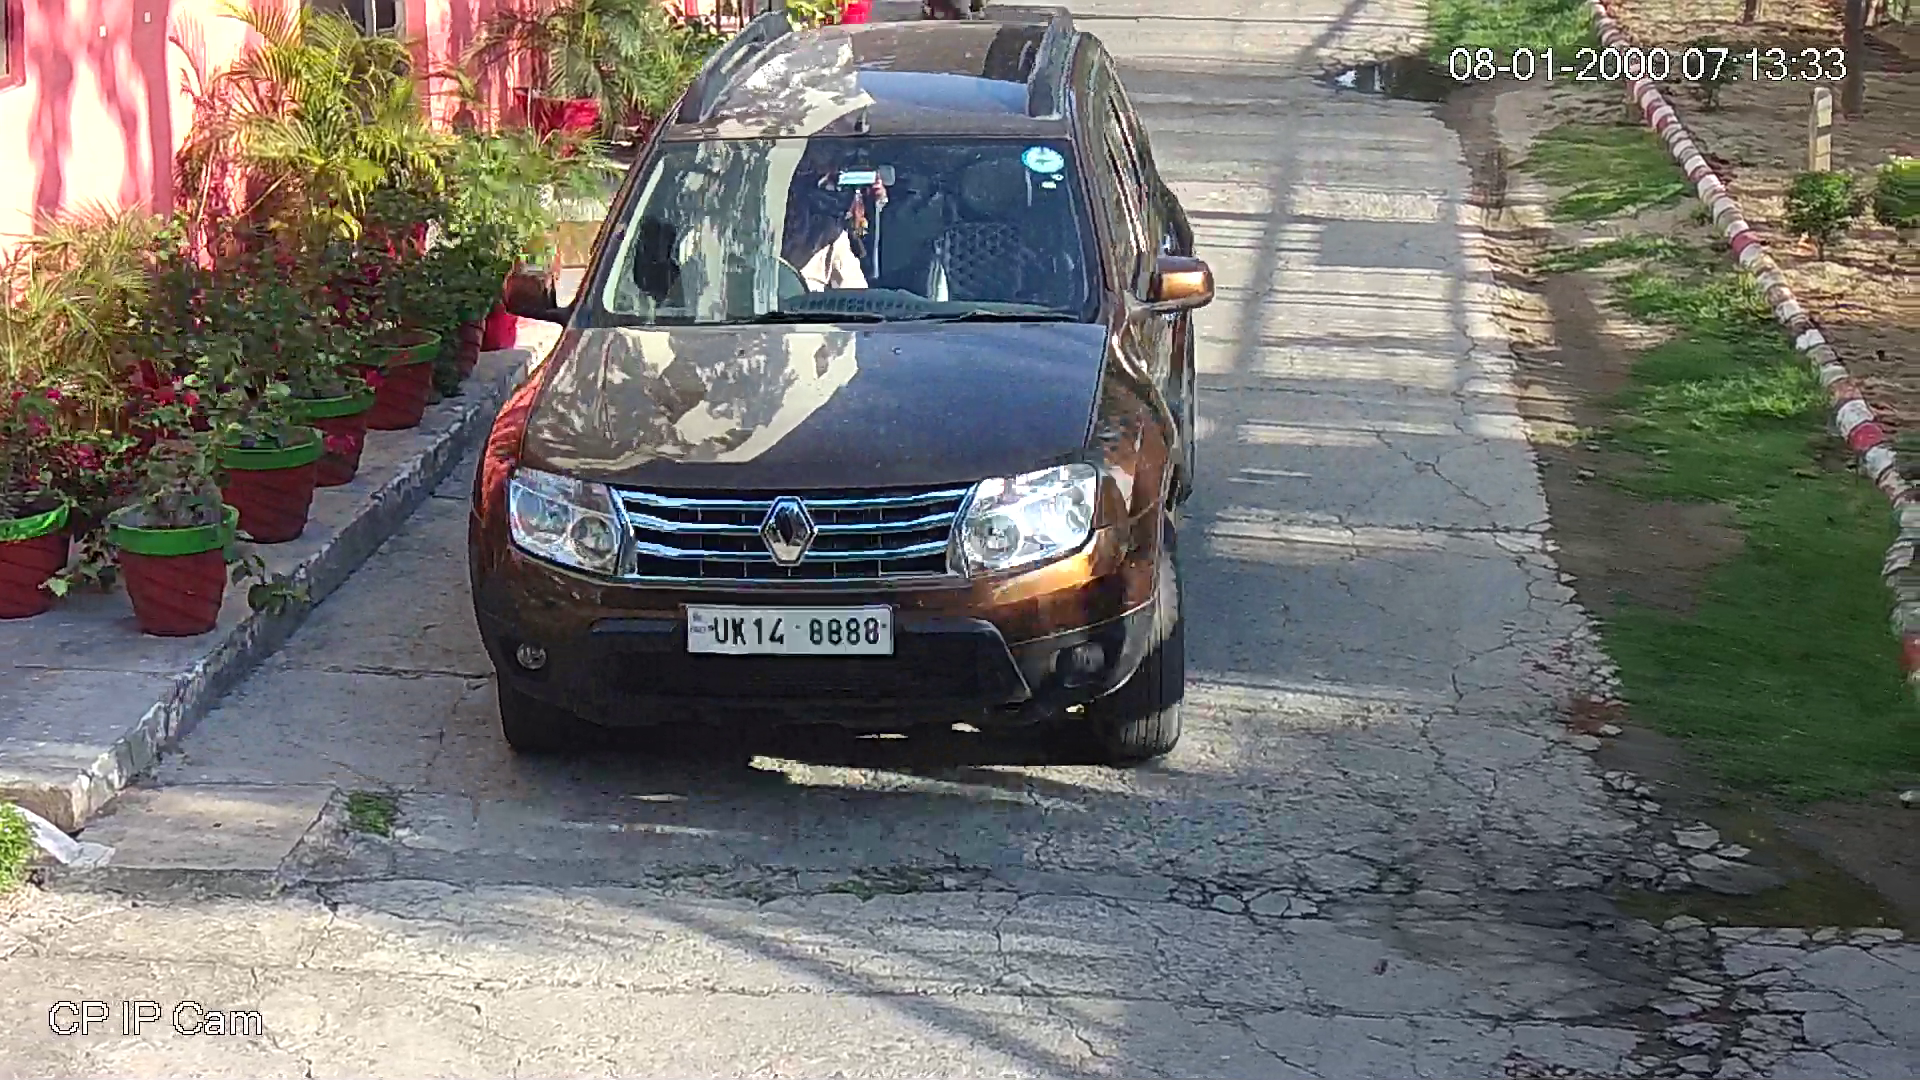plate: (678, 602, 896, 651)
